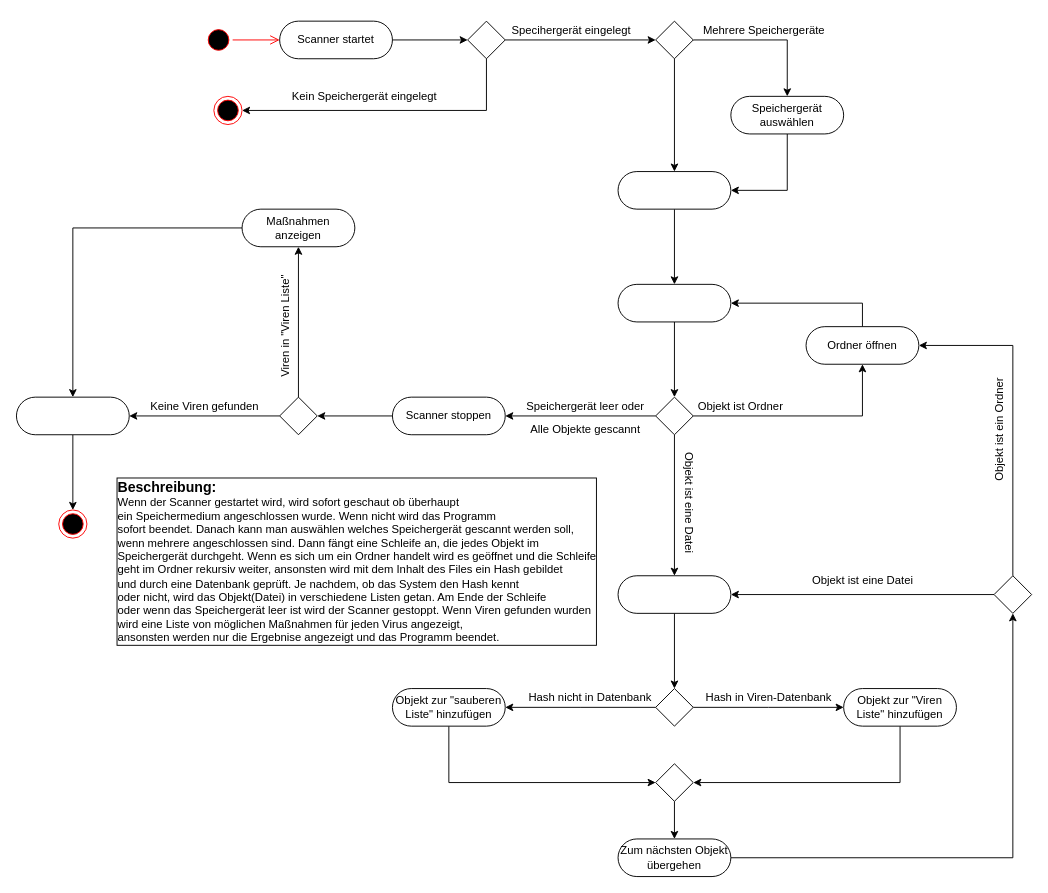
Some shapes in this 1048 by 893 pixel diagram are drawn without their labels. The shapes that lost their labels are listed below. From the top down, each one's centre as x and y in pixels, then its label:
At [674,190]: "Speichergerät sperren".
At [674,302]: "Objekte scannen".
At [72,415]: "Ergebnis anzeigen".
At [674,594]: "Hash extrahieren".
